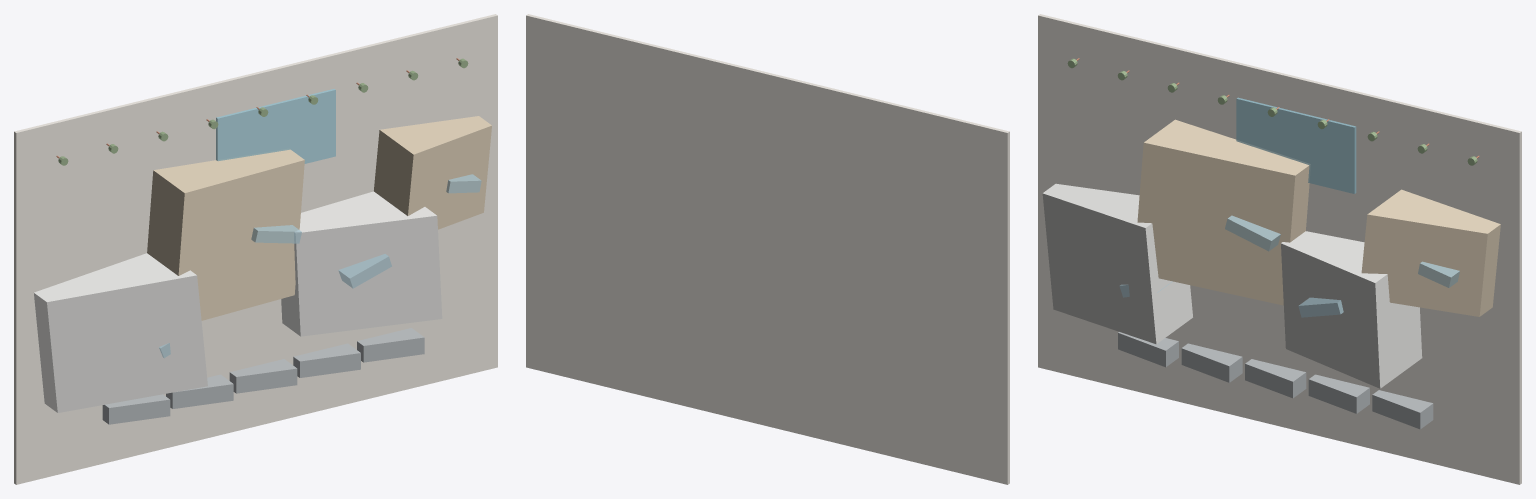
The model's file is crystal_dunes.glb.
3 views of the same model, side by side, from view 1: azimuth 30°, elevation 25°; view 2: azimuth 150°, elevation 25°; view 3: azimuth 330°, elevation 25° (orthographic).
Visible parts, largest first — view 1: site_base, dune_mass_0, dune_mass_1, dune_mass_2, dune_mass_3, north_pool, entry_fin_2, entry_fin_3, entry_fin_4, entry_fin_0, entry_fin_1, glass_cut_2 (+2 smaller); view 2: site_base; view 3: site_base, dune_mass_1, dune_mass_0, dune_mass_2, dune_mass_3, north_pool, entry_fin_1, entry_fin_2, entry_fin_3, entry_fin_4, entry_fin_0, glass_cut_1 (+2 smaller).
Part boxes in pixels (x1,y1,x2,y2): site_base: [14, 14, 497, 484]; dune_mass_0: [34, 253, 207, 412]; dune_mass_1: [147, 149, 304, 320]; dune_mass_2: [281, 191, 442, 336]; dune_mass_3: [374, 116, 491, 229]; north_pool: [216, 89, 335, 163]; entry_fin_2: [229, 359, 297, 393]; entry_fin_3: [293, 343, 360, 377]; entry_fin_4: [357, 328, 424, 362]; entry_fin_0: [102, 394, 170, 424]; entry_fin_1: [166, 374, 233, 408]; glass_cut_2: [338, 254, 391, 288]; site_base: [526, 14, 1009, 484]; site_base: [1038, 14, 1521, 484]; dune_mass_1: [1137, 119, 1310, 305]; dune_mass_0: [1042, 183, 1192, 344]; dune_mass_2: [1281, 231, 1422, 388]; dune_mass_3: [1361, 189, 1500, 316]; north_pool: [1236, 97, 1356, 193]; entry_fin_1: [1181, 343, 1242, 382]; entry_fin_2: [1245, 359, 1306, 398]; entry_fin_3: [1308, 374, 1369, 413]; entry_fin_4: [1372, 390, 1433, 429]; entry_fin_0: [1118, 332, 1178, 367]; glass_cut_1: [1225, 215, 1280, 251].
Bounding box in the file's own units: 106 × 74 × 16.8.
